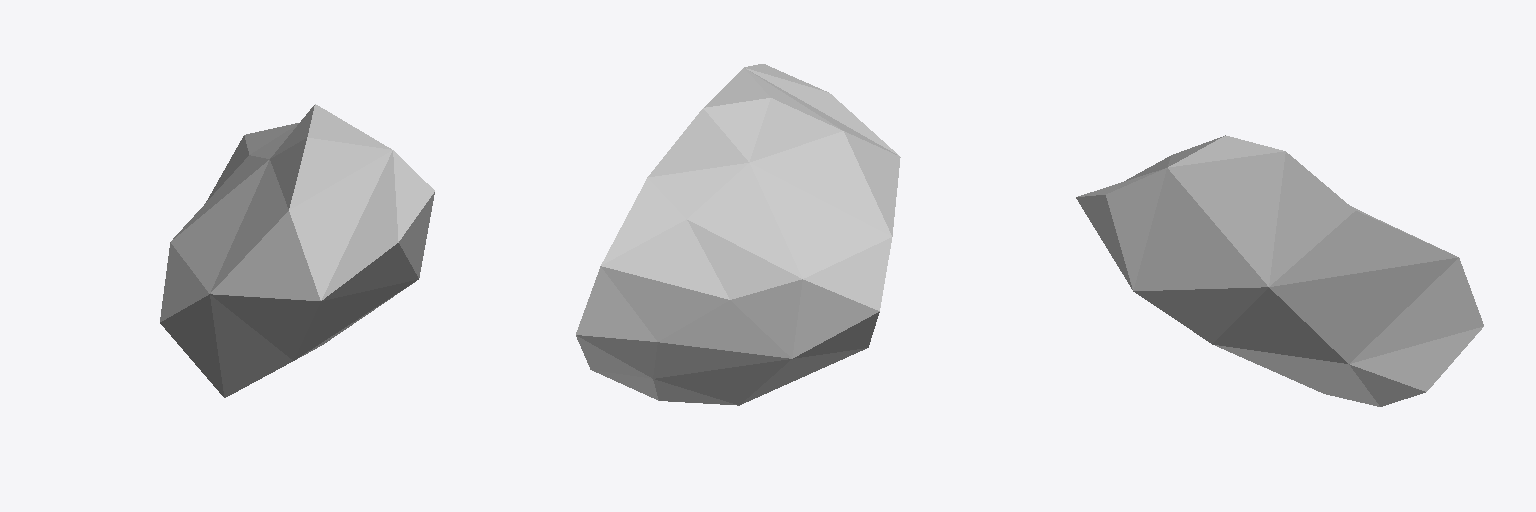
Rendered from stg600_obj_meteoriteA_bp3.obj.
3 views of the same model, side by side, from view 1: azimuth 30°, elevation 25°; view 2: azimuth 150°, elevation 25°; view 3: azimuth 270°, elevation 25° (orthographic).
Parts seen in each view (by area): view 1: polygon0, polygon1; view 2: polygon0; view 3: polygon1, polygon0.
Part boxes in pixels (x1,y1,x2,y2): polygon0: (160,104,434,397); polygon1: (294,192,434,360); polygon0: (576,64,900,405); polygon1: (1076,151,1483,406); polygon0: (1078,135,1448,252).
Size of the model in its own units: 33.29 by 41.24 by 56.62.